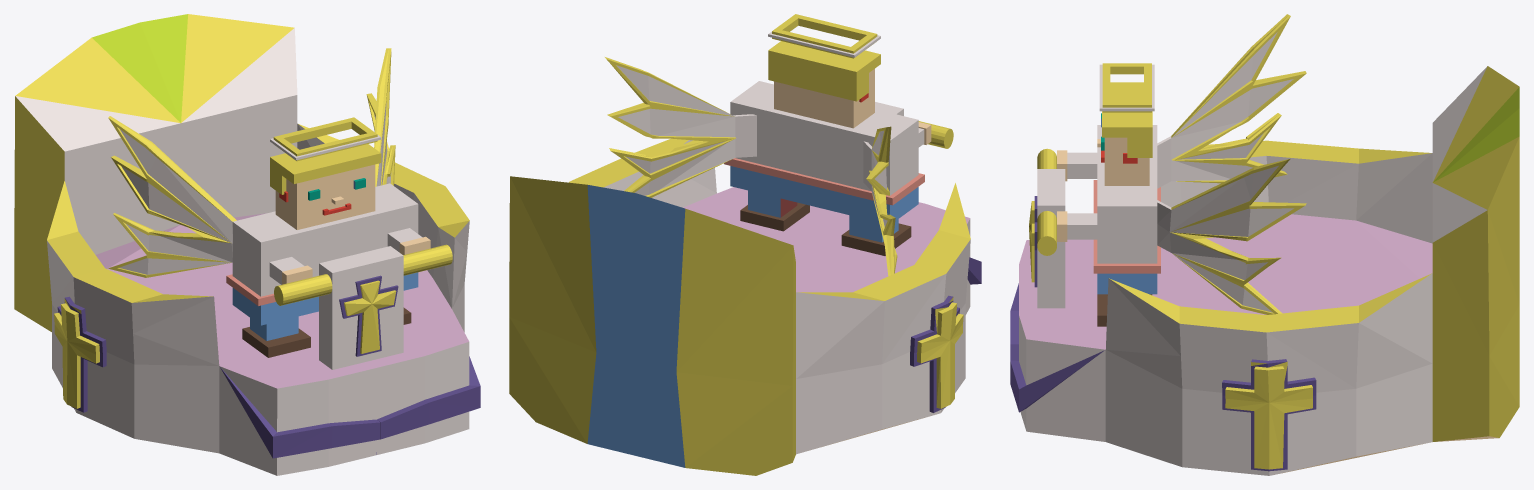
Rendered from personaje-bueno.fbx.
3 views of the same model, side by side, from view 1: azimuth 30°, elevation 25°; view 2: azimuth 150°, elevation 25°; view 3: azimuth 270°, elevation 25° (orthographic). The views are drawn at different scales.
Visible parts, largest first — view 1: m1, m2; view 2: m1, m2; view 3: m2, m1.
Boxes of the visible parts, <box> form: m1: <box>14,22,380,475</box>; m2: <box>140,14,480,454</box>; m1: <box>636,24,981,475</box>; m2: <box>509,14,845,455</box>; m2: <box>1010,84,1519,475</box>; m1: <box>1010,14,1519,344</box>.
Size of the model in its own units: 1.66 by 1.16 by 1.8.
